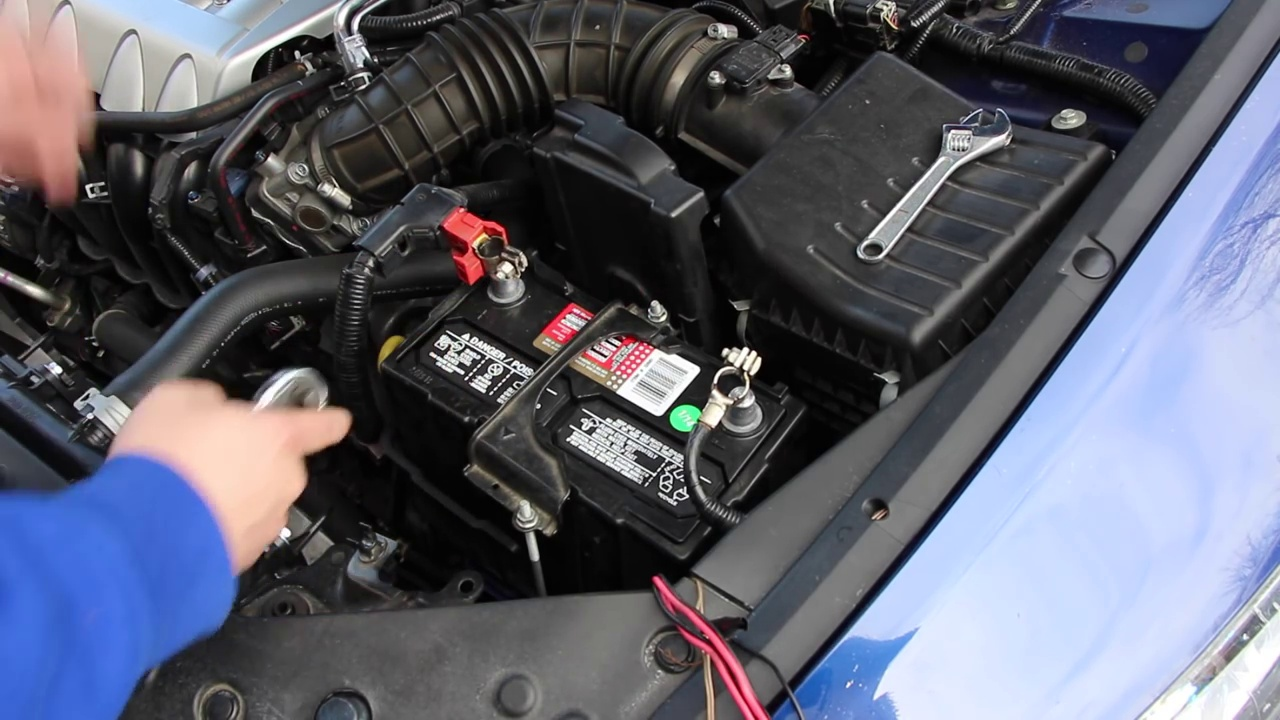battery: (387, 238, 803, 566)
neg_disconnected: (686, 339, 768, 445)
pos_connected: (429, 192, 532, 324)
